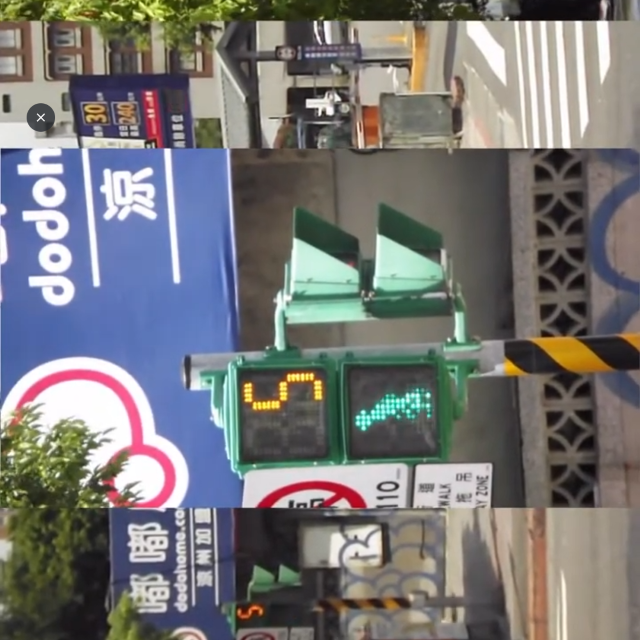green_light: (227, 362, 447, 462), (228, 605, 302, 625)
